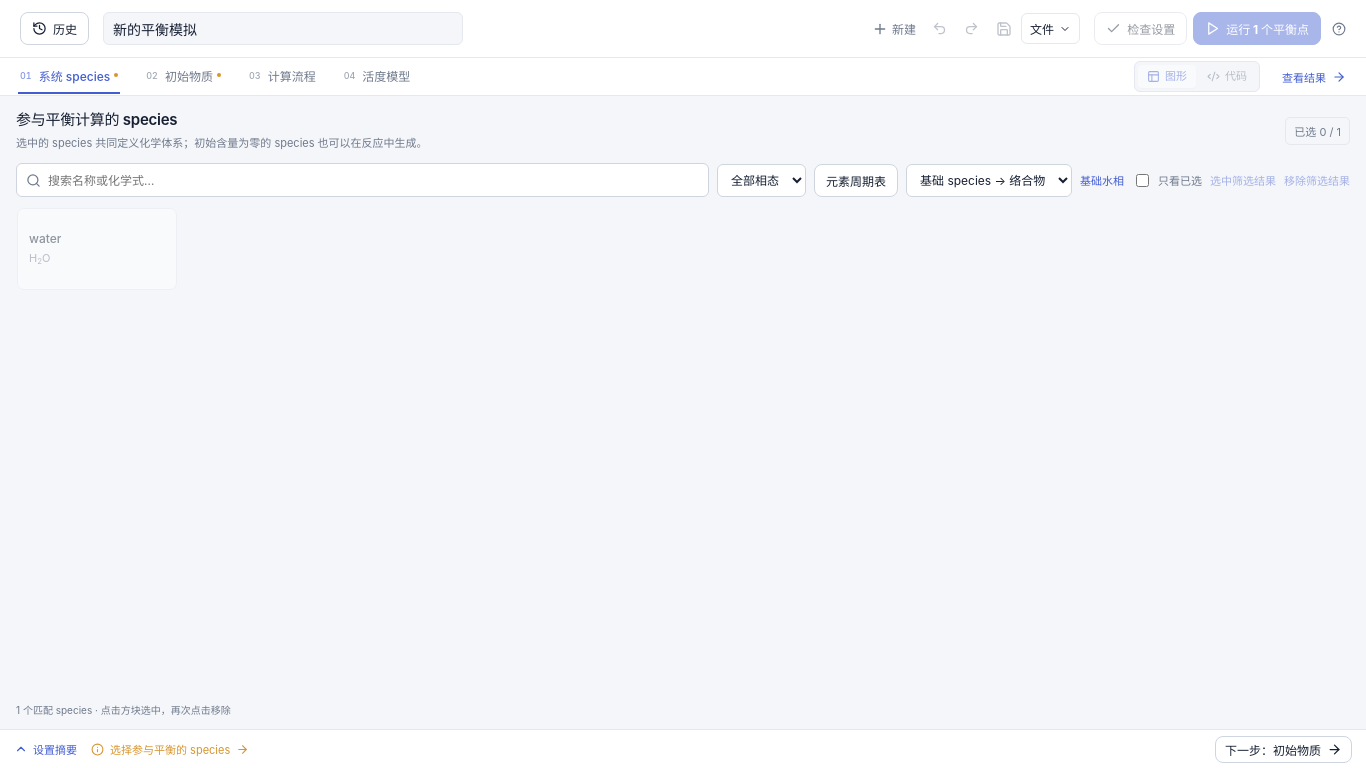
Test: UI and code integration › opens the effective composition parameter from its quantity field and immediately reflects the edit
Check: the button with aria-label "参与平衡 water" is shown, box [17,208,177,290]
Click the tab "02 初始物质": (184, 76) [144,58,223,94]
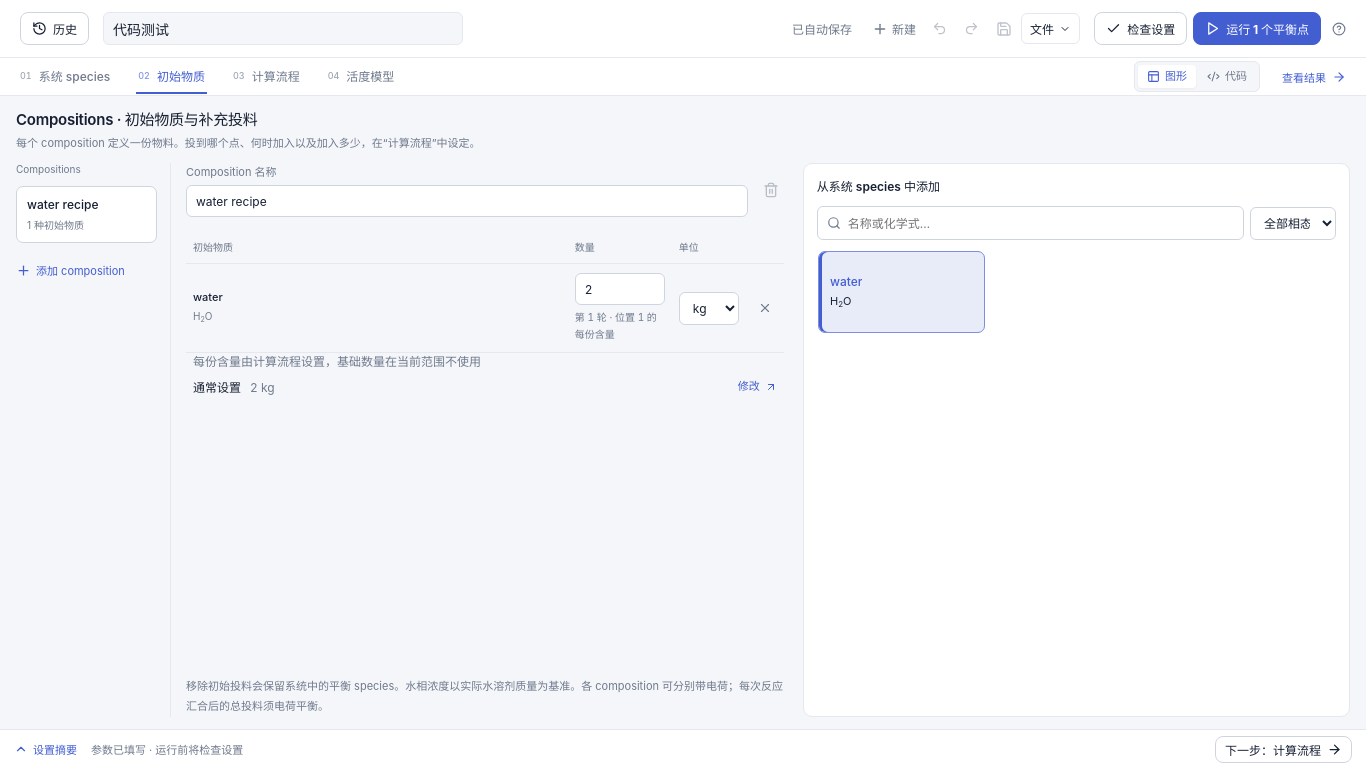
Check: the number field named "water 投料量" holds "2", box [575,273,665,305]
Click the button with aria-label "修改通常设置中的water 每份含量": (757, 387) [738,376,777,399]
(page scrolled)
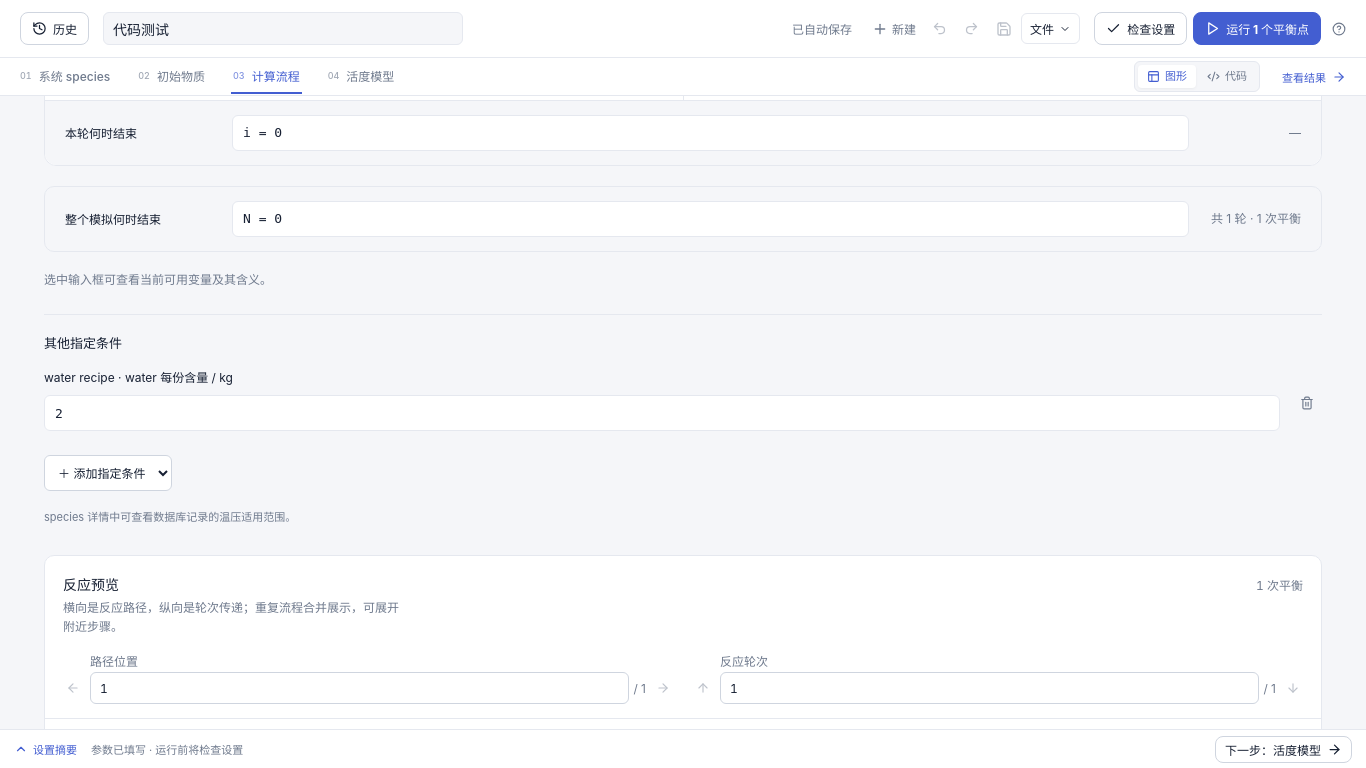
Check: the element showing "water recipe · water 每份含量 / kg" is shown, box [44,368,1322,431]
Check: the field with class "wave-formula" holds "2"
Replace the text in the field with class "wave-formula" showing "water recipe · water 每份含量 / kg" with "3": (662, 413) [44,395,1280,431]
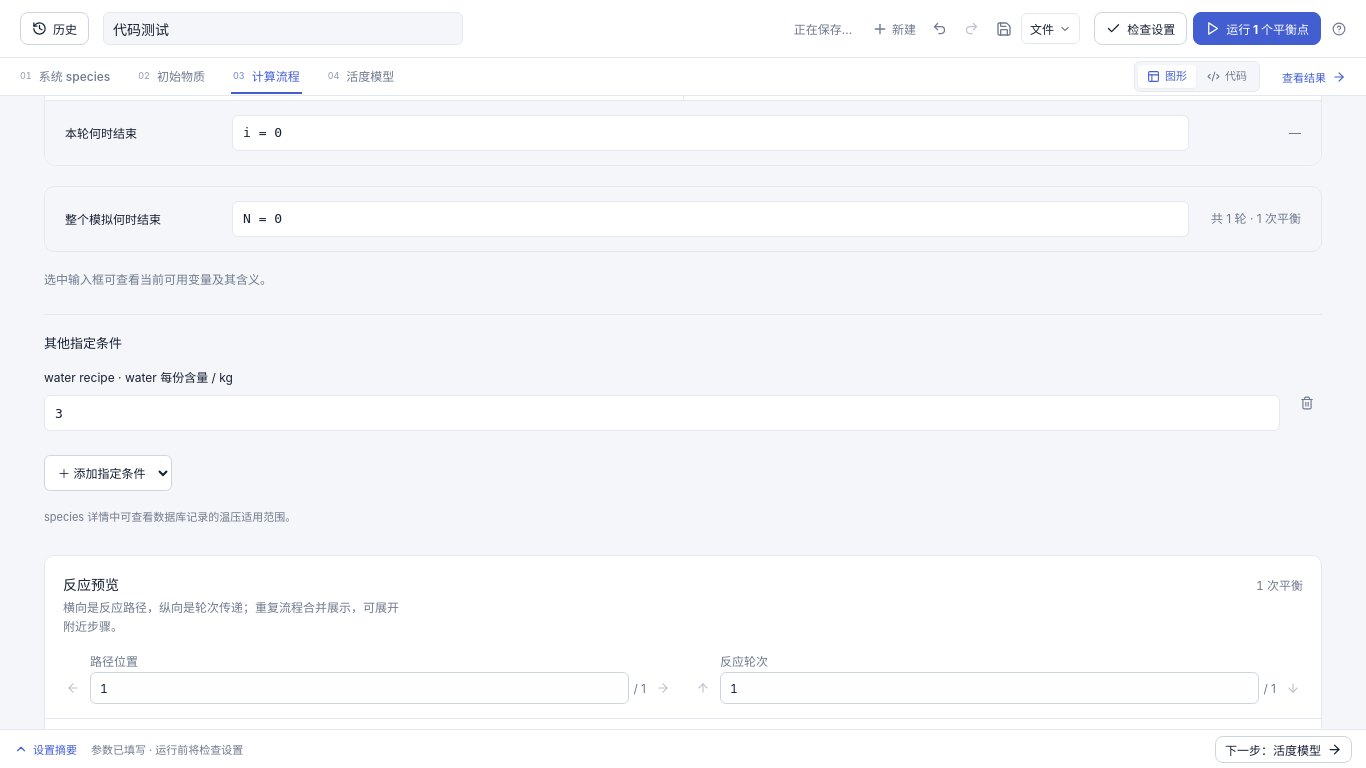
Click the tab "02 初始物质": (172, 76) [136,58,207,94]
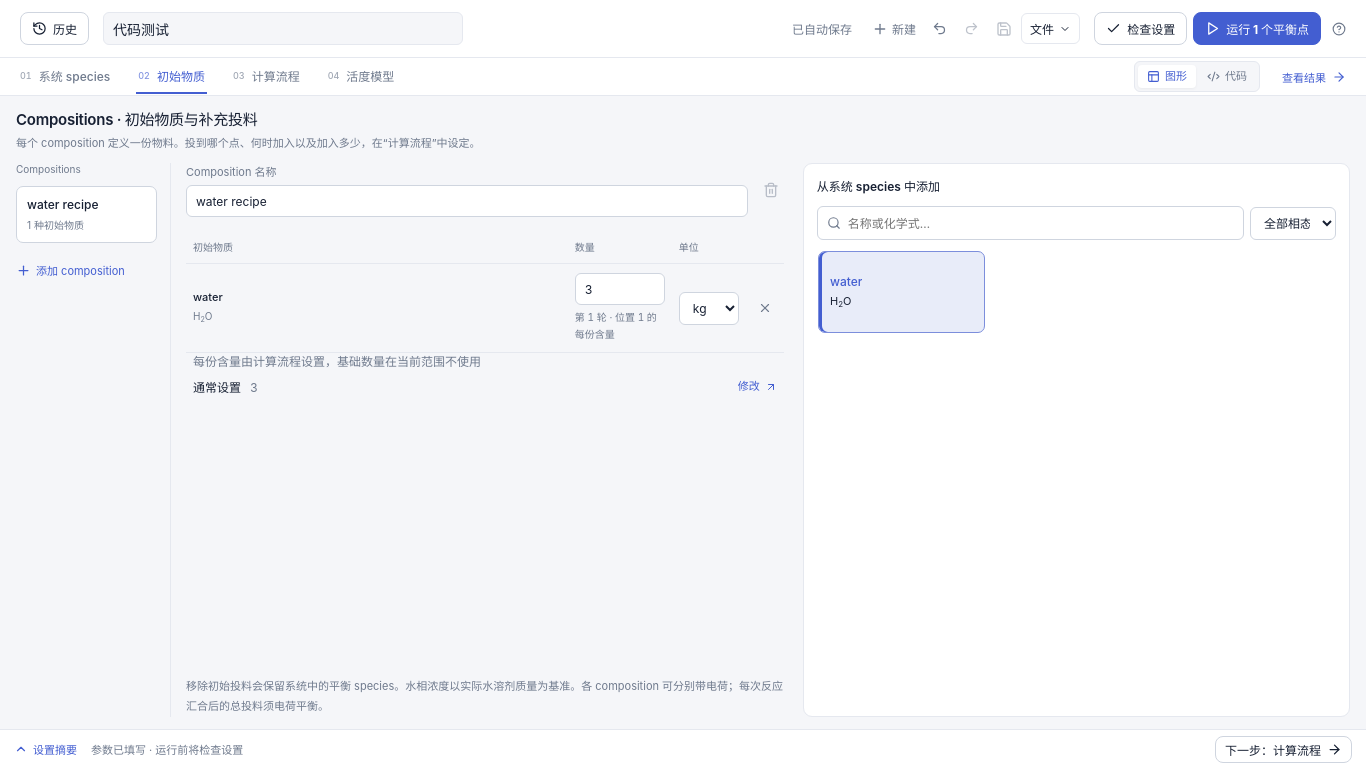
Check: the number field named "water 投料量" holds "3", box [575,273,665,305]
